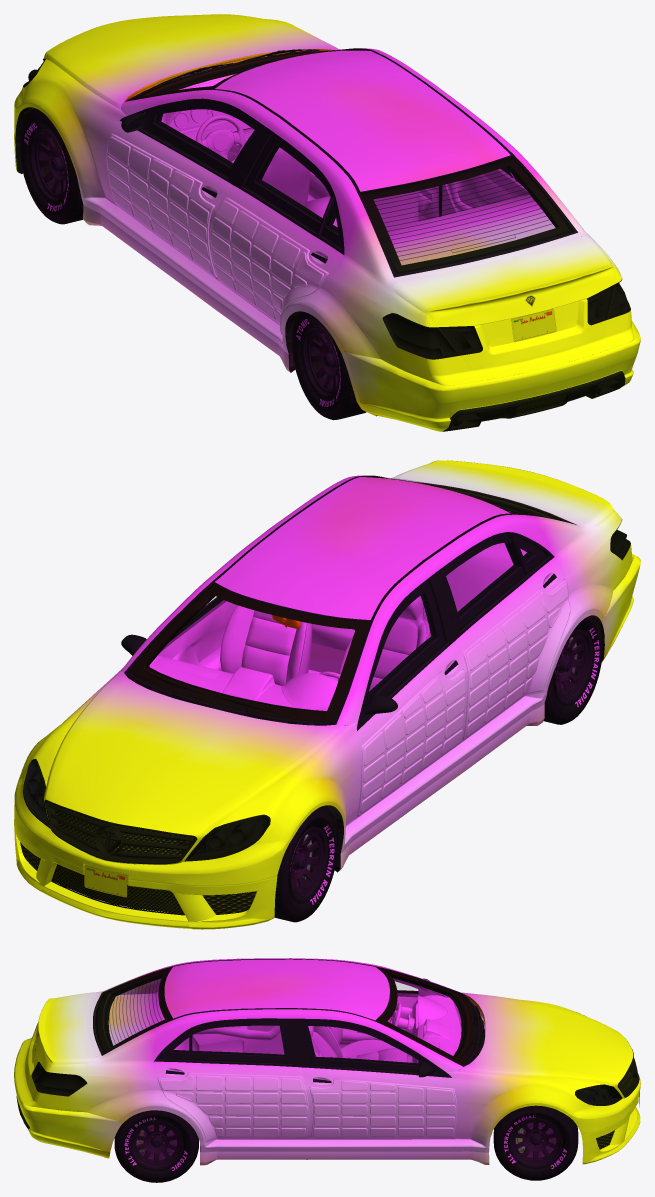
File: schafter6.glb
The picture shows the model from 3 angles, top to bottom: view 1: azimuth 30°, elevation 25°; view 2: azimuth 150°, elevation 25°; view 3: azimuth 270°, elevation 25°; orthographic projection. The views are drawn at different scales.
Visible parts, largest first — view 1: bodyshell, misc_e, chassis, boot, door_dside_r, windscreen_r, door_dside_f, misc_b, bumper_r, window_lf, wheel_lf, wheel_lr (+5 smaller); view 2: bodyshell, chassis, misc_b, misc_e, bumper_f, door_dside_r, door_dside_f, boot, misc_c, wheel_lf, window_lf, window_lr (+4 smaller); view 3: bodyshell, chassis, door_pside_r, door_pside_f, misc_e, misc_b, wheel_rf, wheel_rr, window_rf, boot, windscreen_r, window_rr (+6 smaller).
Part boxes in pixels (x1,y1,x2,y2): bodyshell: [20, 19, 633, 385]; misc_e: [215, 50, 510, 191]; chassis: [23, 48, 630, 372]; boot: [393, 236, 615, 368]; door_dside_r: [210, 128, 344, 334]; windscreen_r: [361, 157, 573, 274]; door_dside_f: [106, 98, 267, 281]; misc_b: [44, 14, 339, 109]; bumper_r: [341, 320, 640, 431]; window_lf: [143, 101, 260, 177]; wheel_lf: [19, 108, 83, 224]; wheel_lr: [292, 311, 366, 420]; bodyshell: [20, 475, 633, 872]; chassis: [23, 475, 630, 913]; misc_b: [44, 671, 347, 864]; misc_e: [215, 476, 510, 619]; bumper_f: [14, 775, 292, 929]; door_dside_r: [435, 532, 571, 743]; door_dside_f: [355, 572, 466, 819]; boot: [393, 460, 614, 526]; misc_c: [44, 799, 197, 864]; wheel_lf: [274, 806, 337, 922]; window_lf: [366, 581, 445, 702]; window_lr: [442, 535, 525, 628]; bodyshell: [16, 958, 622, 1165]; chassis: [34, 967, 621, 1151]; door_pside_r: [153, 1018, 311, 1142]; door_pside_f: [291, 1018, 459, 1139]; misc_e: [164, 959, 389, 1020]; misc_b: [457, 992, 632, 1098]; wheel_rf: [493, 1105, 578, 1180]; wheel_rr: [114, 1110, 198, 1182]; window_rf: [300, 1021, 427, 1072]; boot: [25, 992, 96, 1088]; windscreen_r: [95, 968, 171, 1053]; window_rr: [192, 1021, 291, 1063].
Size of the model in its own units: 1.96 by 1.54 by 5.49.
20 materials, 12 textured.
